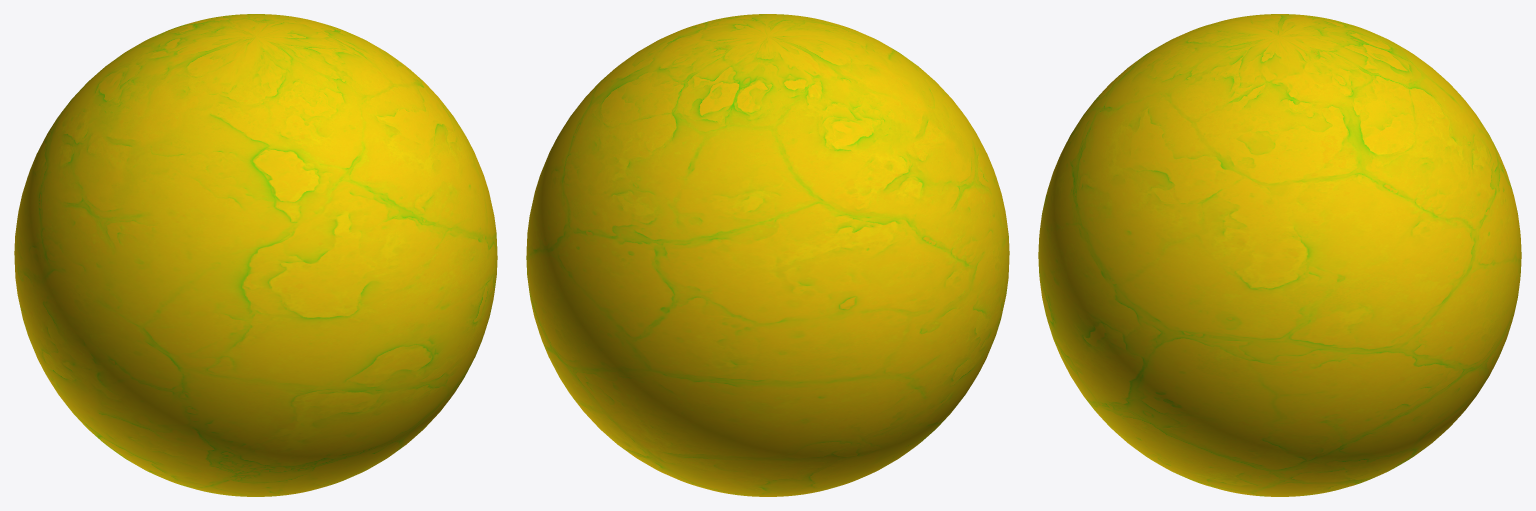
File: grayplanet.glb
3 renders of one model, left to right at view 1: azimuth 30°, elevation 25°; view 2: azimuth 150°, elevation 25°; view 3: azimuth 270°, elevation 25°, orthographic.
Visible parts, largest first — view 1: Sphere; view 2: Sphere; view 3: Sphere.
Boxes of the visible parts, x1,y1,x2,y2 form: Sphere: (14,14,497,496); Sphere: (526,14,1009,496); Sphere: (1038,14,1521,496).
Bounding box in the file's own units: 8 × 8 × 8.
Materials: 1 (1 with a texture image).
